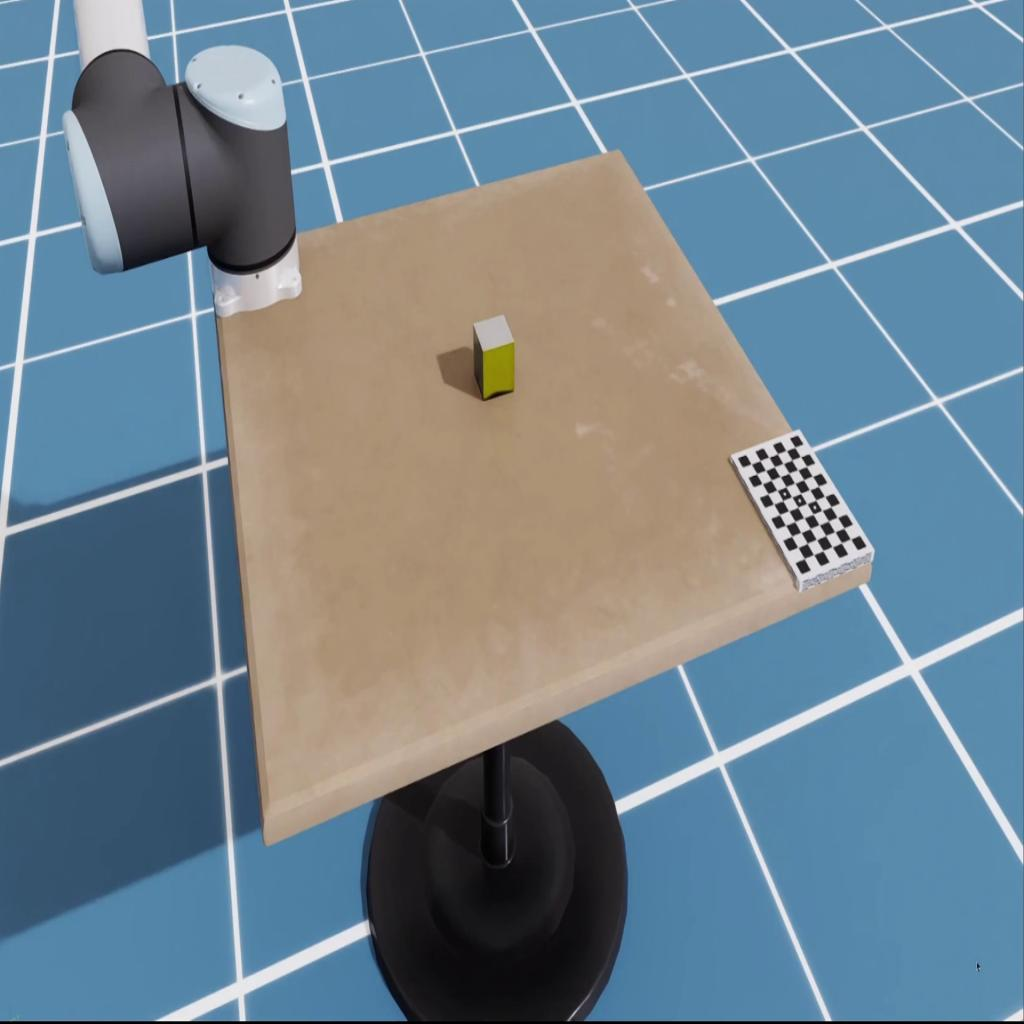Cube: (473, 313, 515, 400)
QR: (728, 426, 874, 594)
Robot: (61, 0, 303, 320)
Table: (208, 149, 873, 850)
